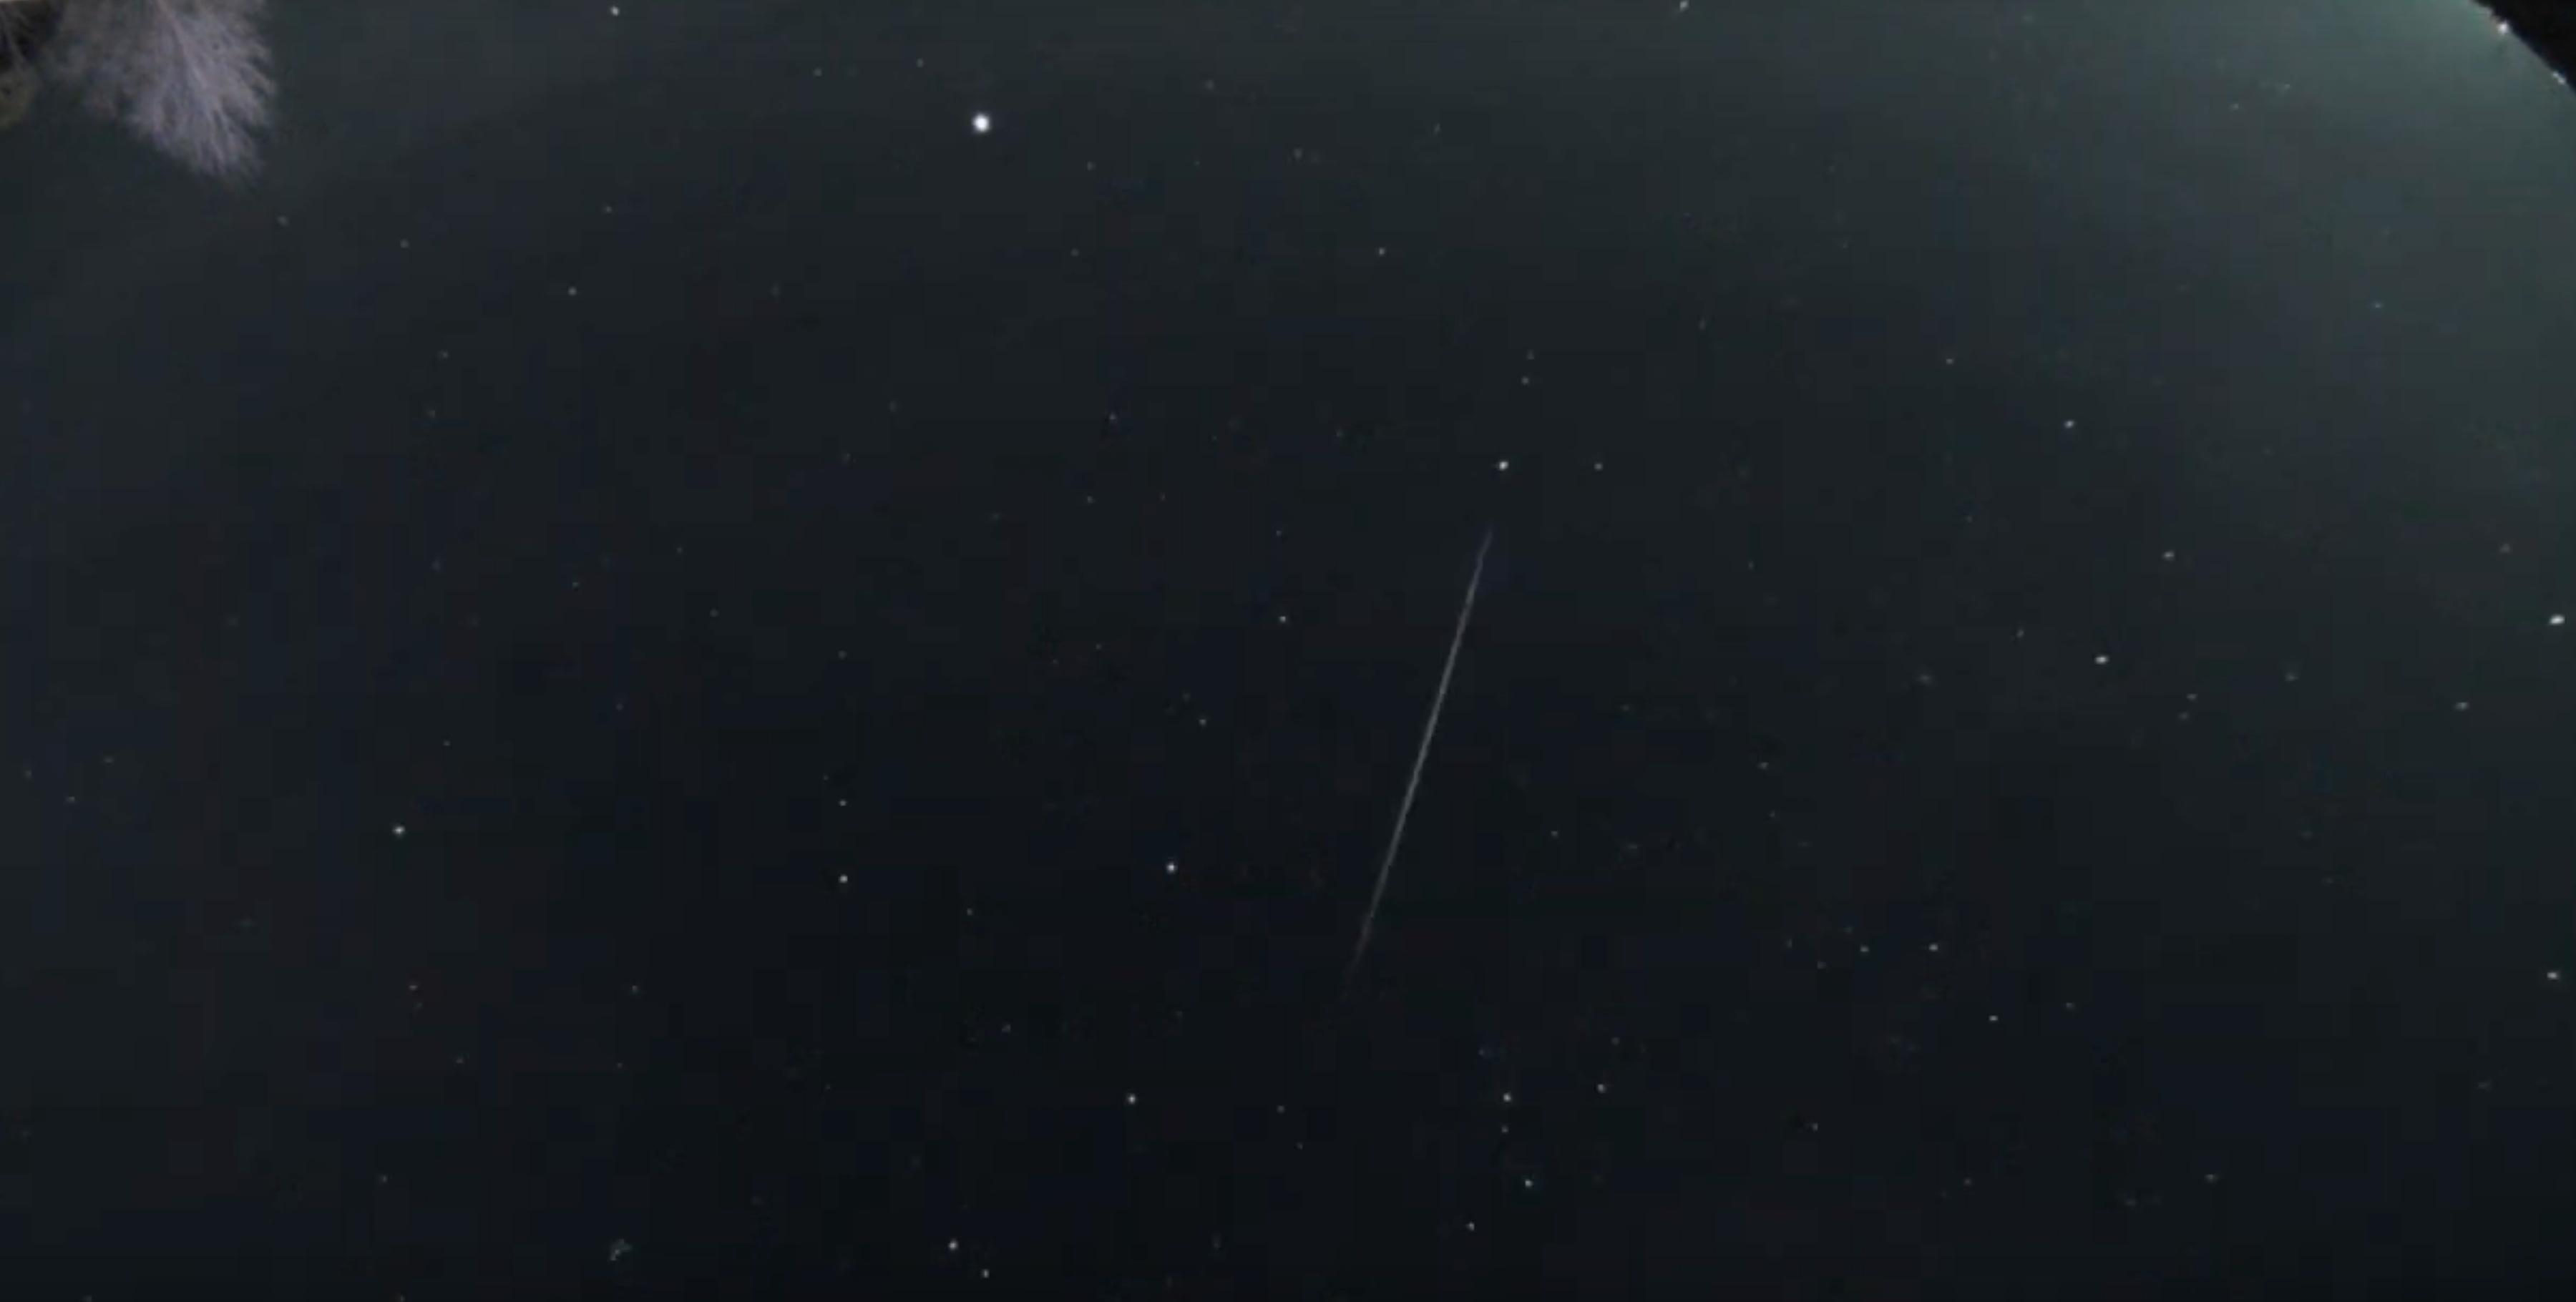meteorite: (1335, 507, 1530, 962)
